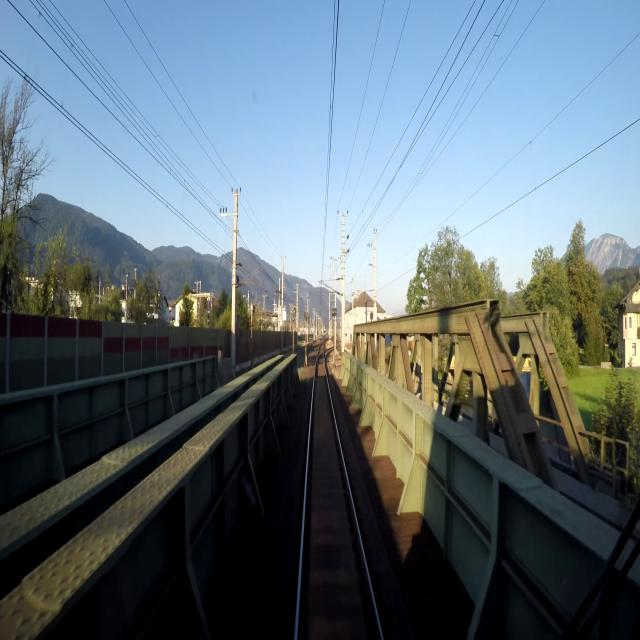rail-track: (299, 356, 379, 639), (325, 341, 333, 347)
